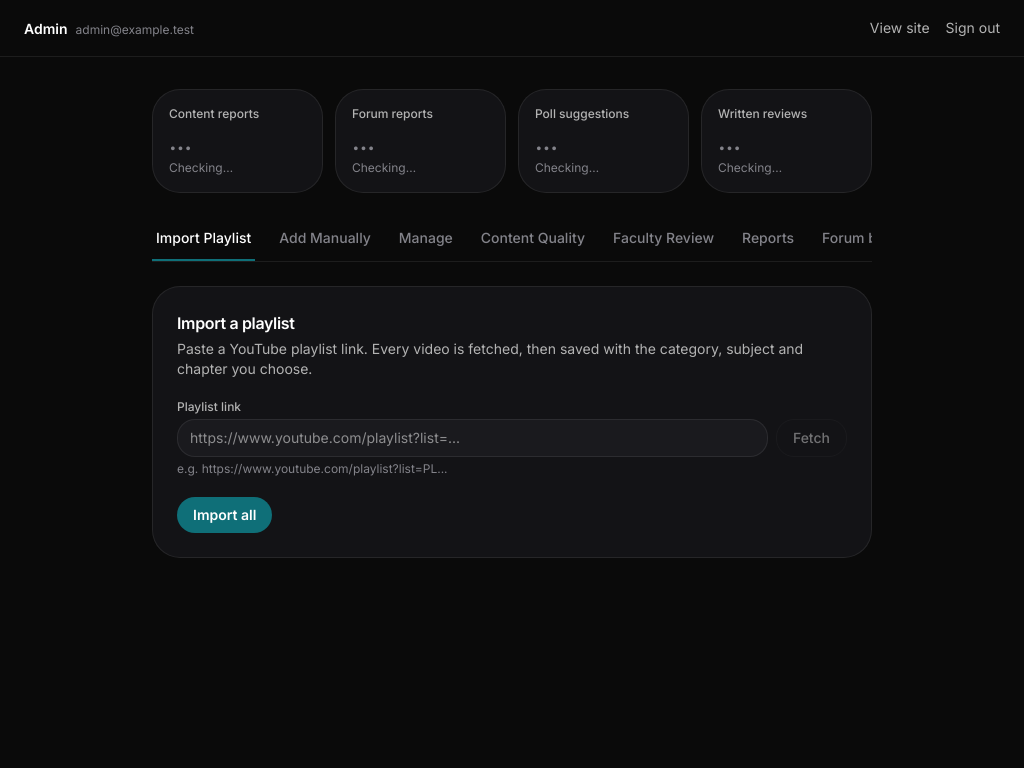
Test: AdminPanel moderation digest › jumps to the Reports tab when the forum counter is clicked
Click the button "Forum reports … Checking…": (420, 141) [335,89,506,193]
(page scrolled)
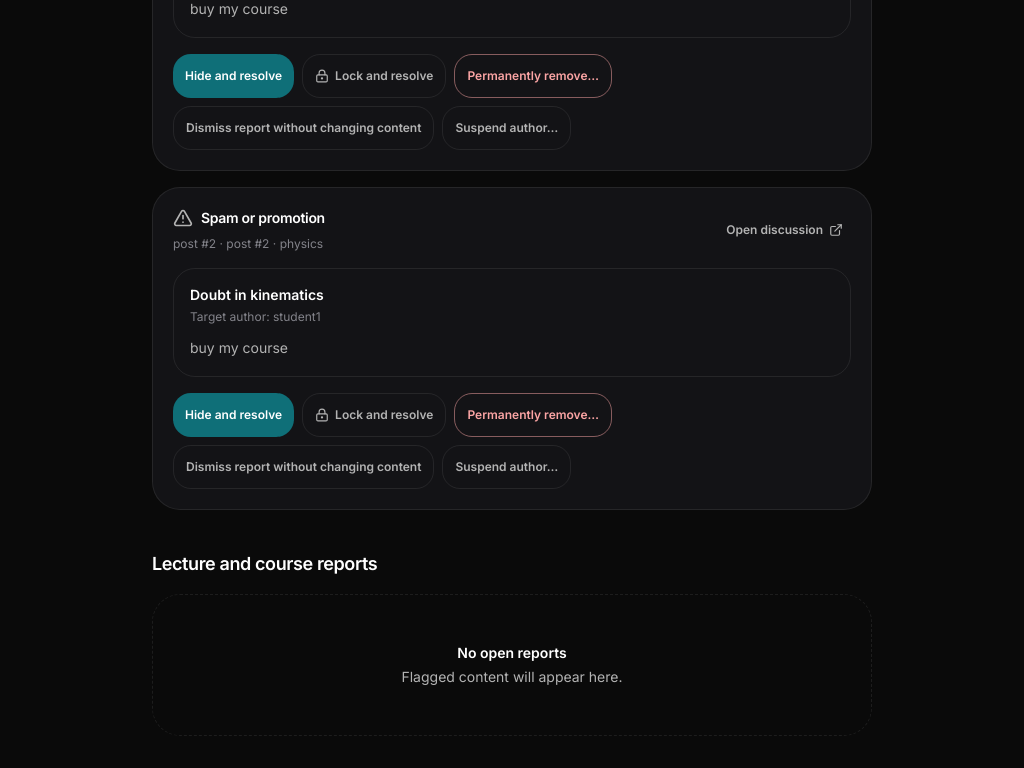
Check: the heading "Lecture and course reports" is shown, box [152,552,377,574]
